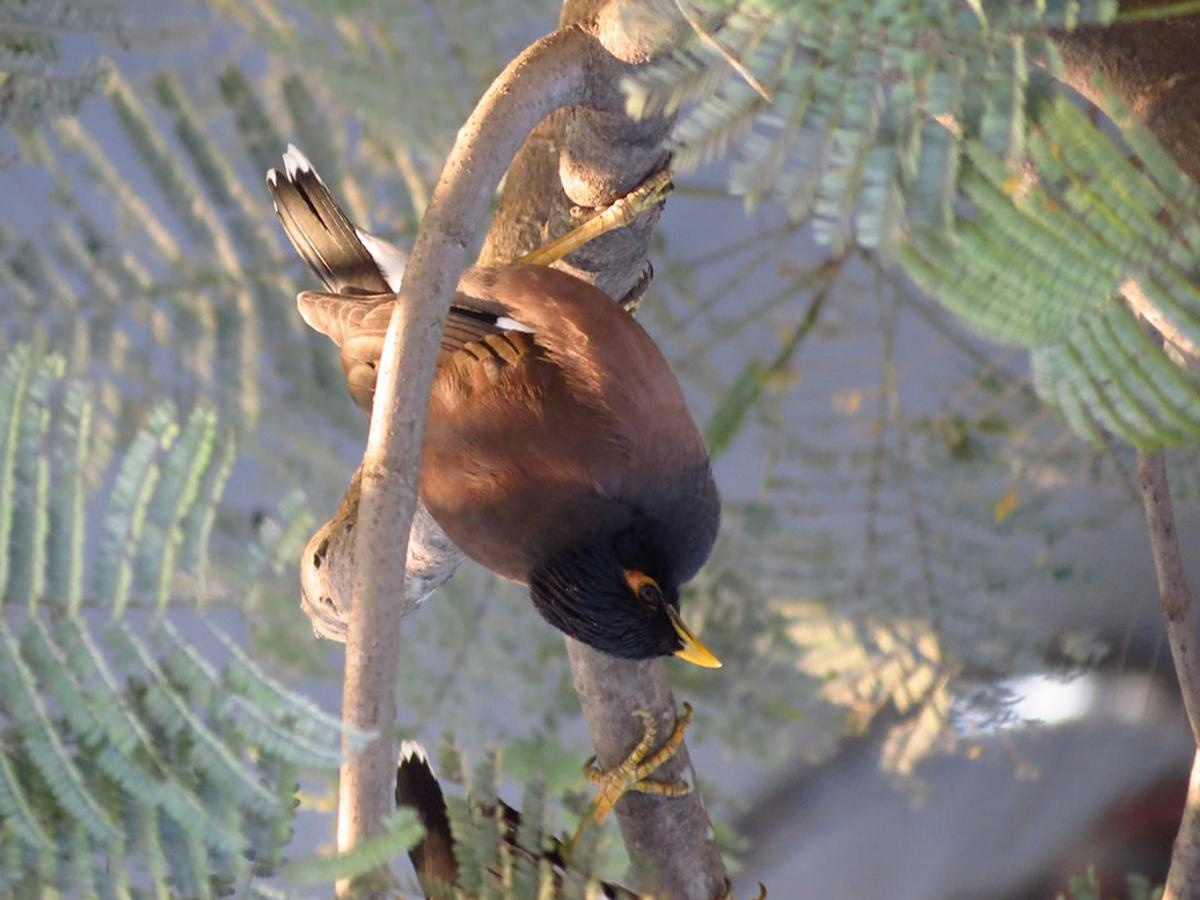myna: (260, 143, 793, 690)
